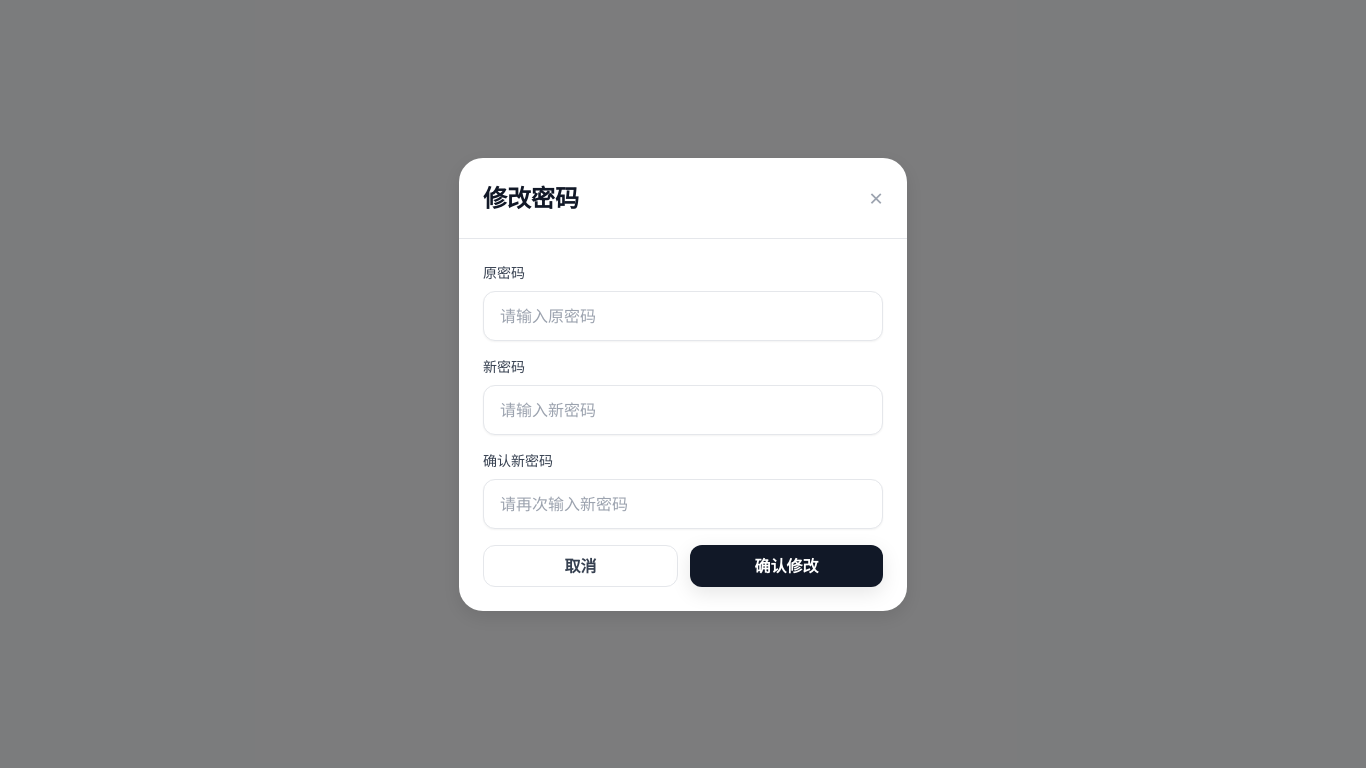
Test: ChangePasswordDialog › 提交失败会展示后端返回的错误信息
This screenshot has width=1366, height=768.
In the password field with placeholder "请输入原密码": {"x": 683, "y": 316} [483, 290, 883, 340], type "old"
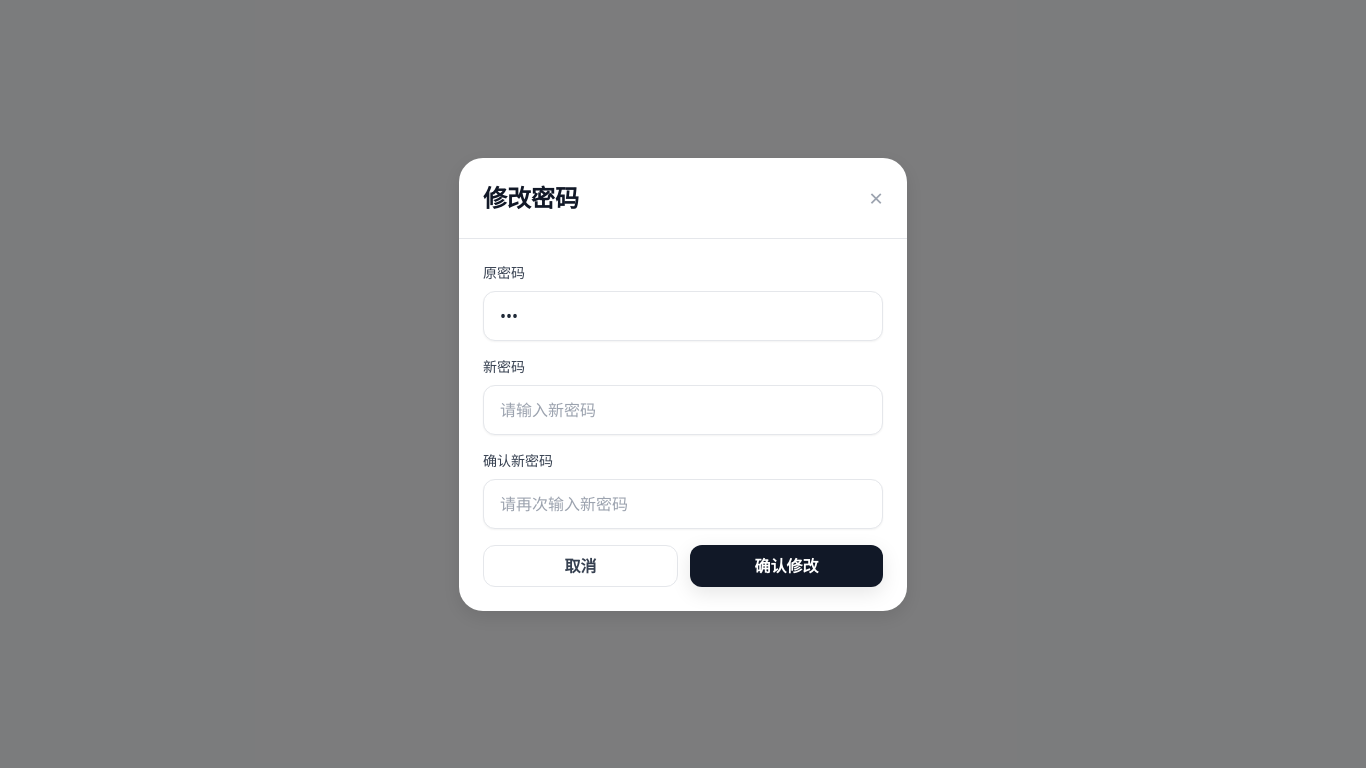
In the password field with placeholder "请输入新密码": {"x": 683, "y": 410} [483, 384, 883, 434], type "new"
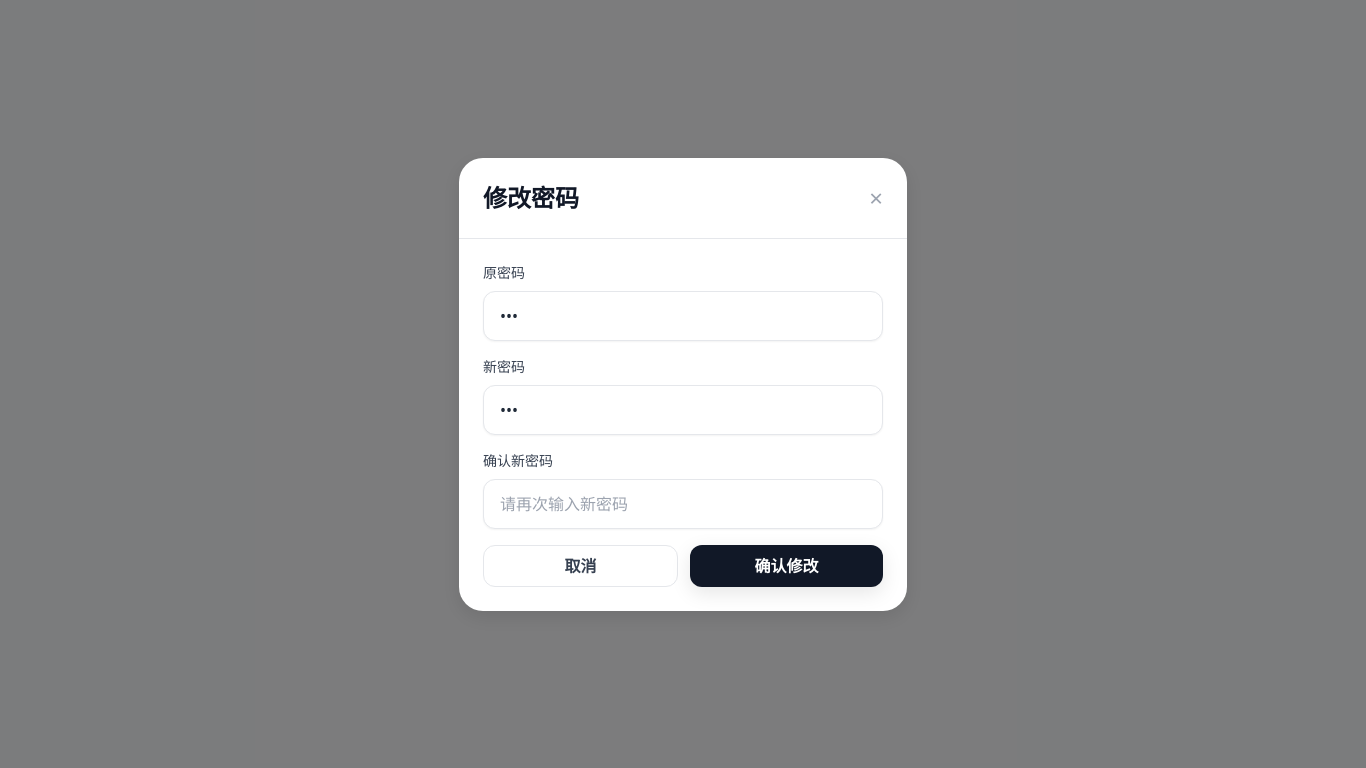
In the password field with placeholder "请再次输入新密码": {"x": 683, "y": 504} [483, 478, 883, 528], type "new"
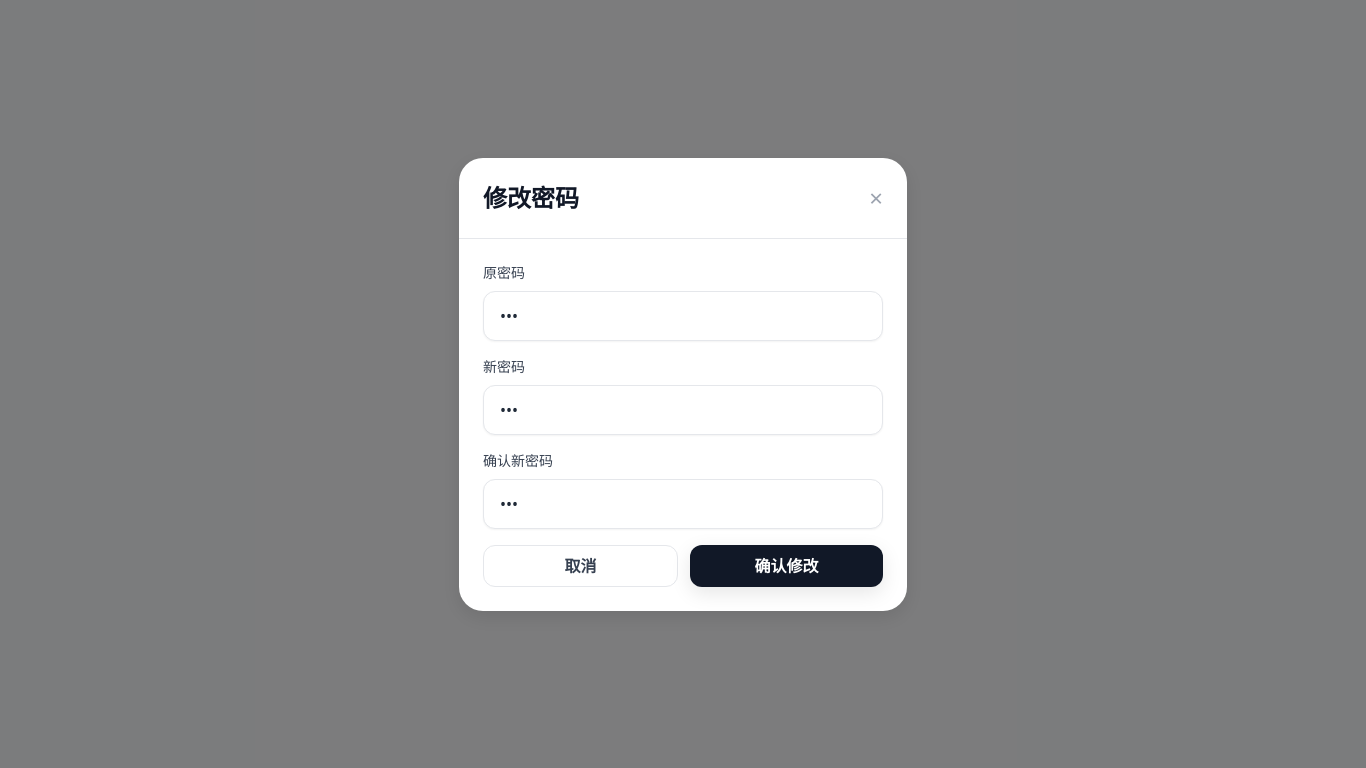
Submit the form, box [459, 238, 907, 610]
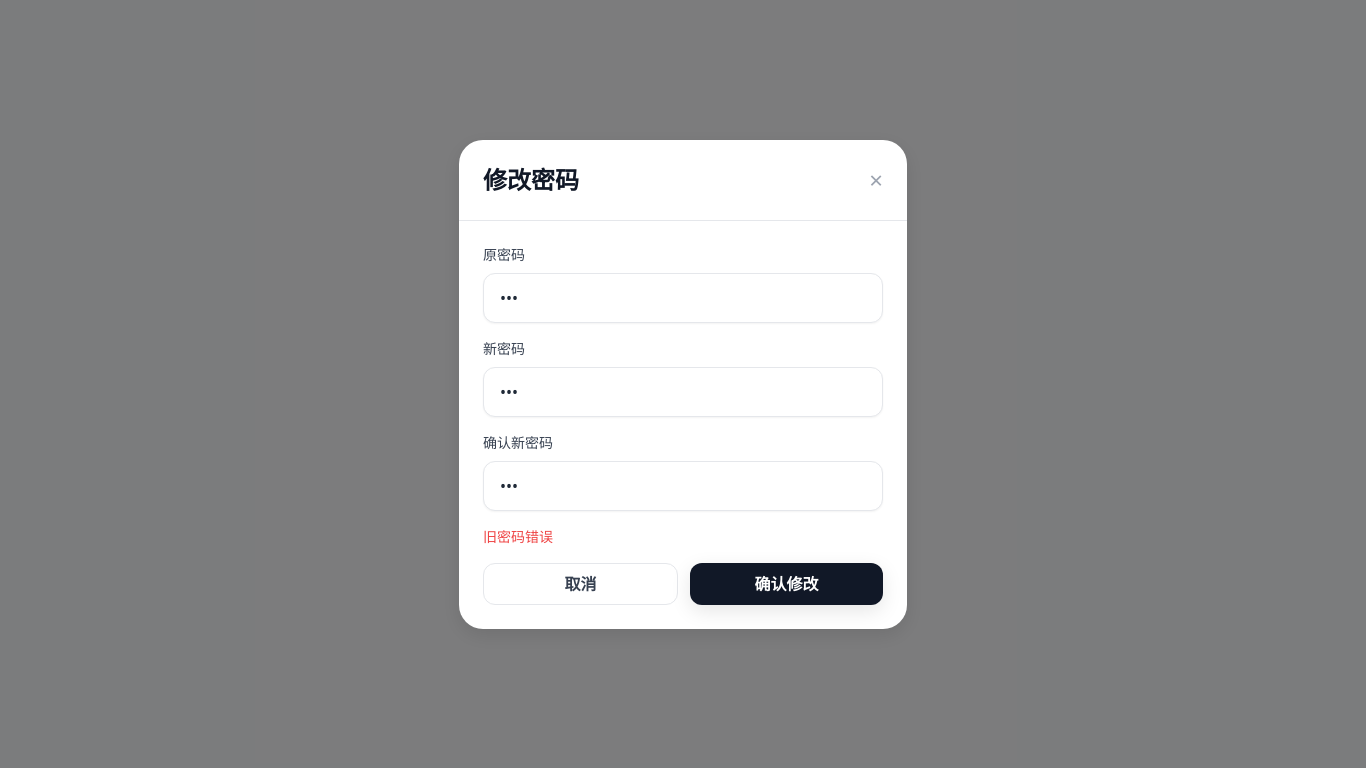
Expected: the text "旧密码错误" is shown, [483, 526, 553, 546]
